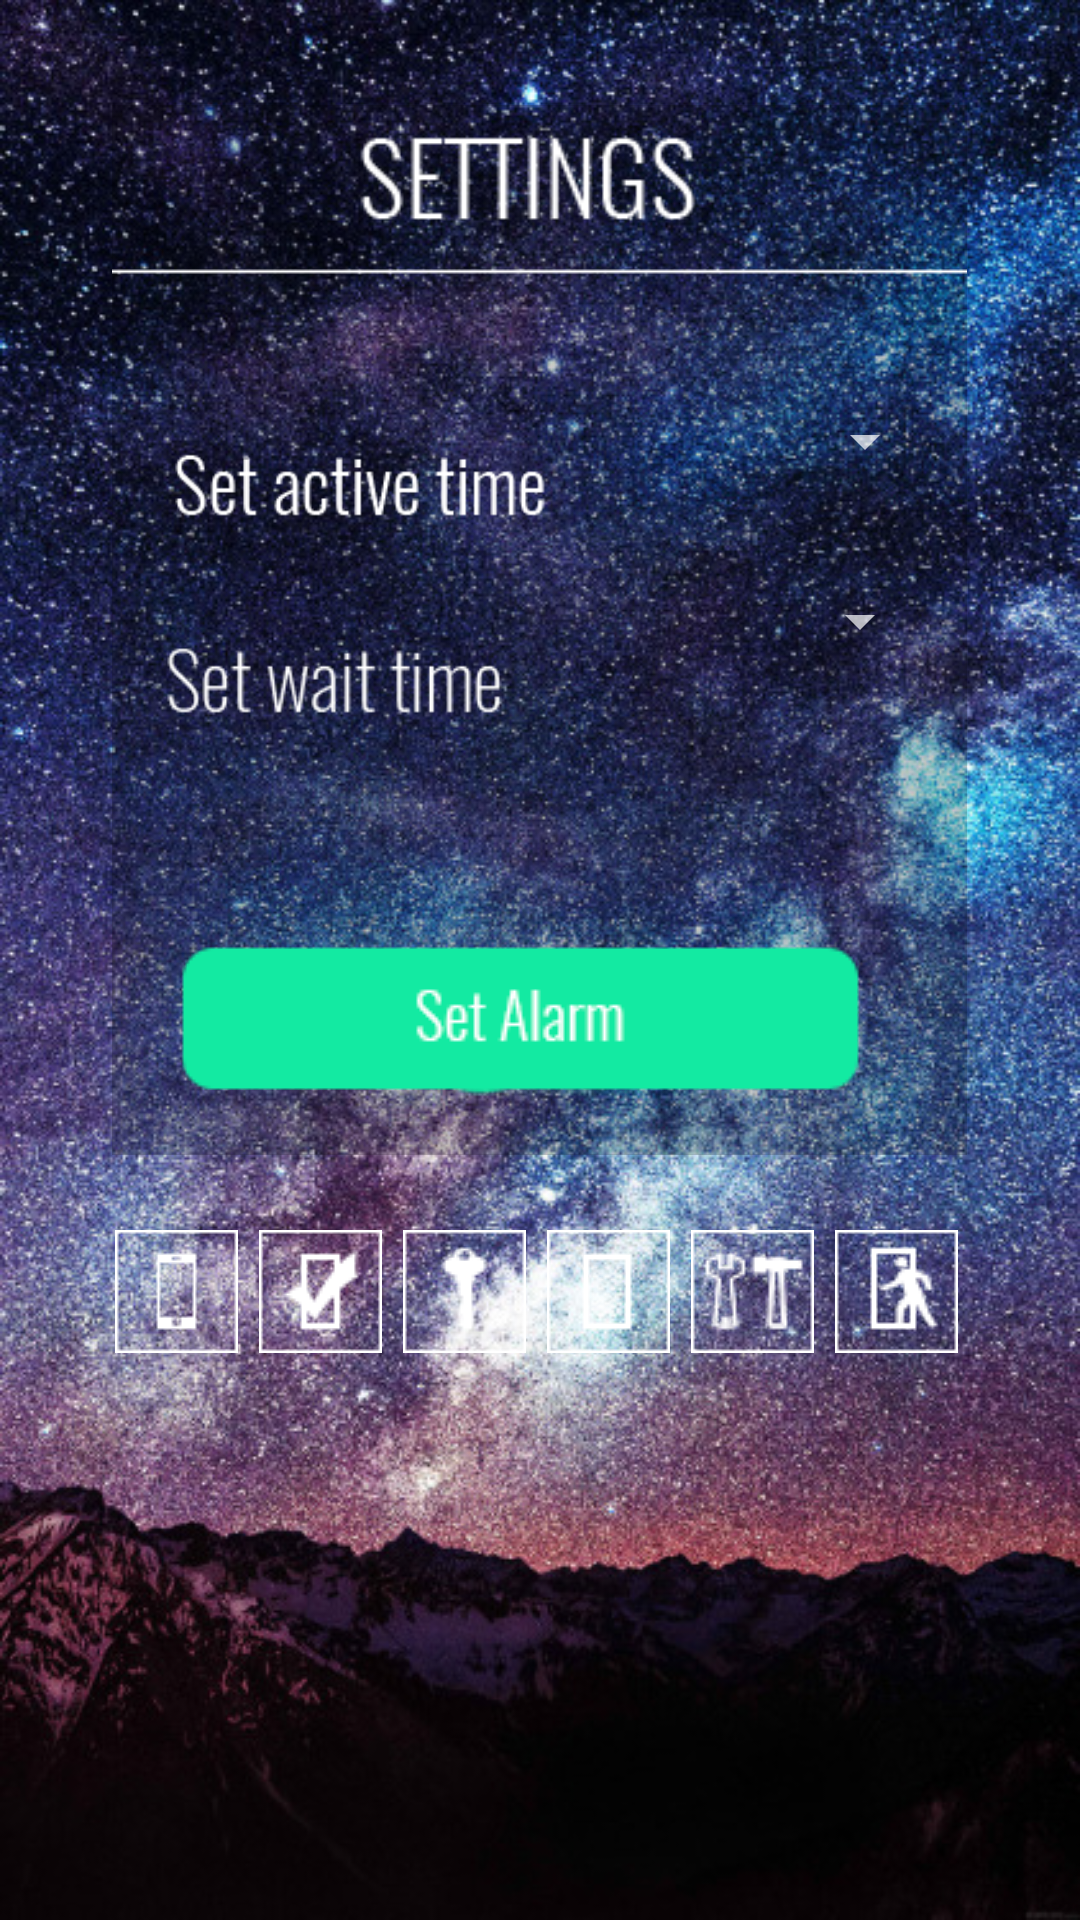

Icons on this 1080px×1920px Android screen, each with the point to tap as (x,y):
extwbx: (896,1291)
